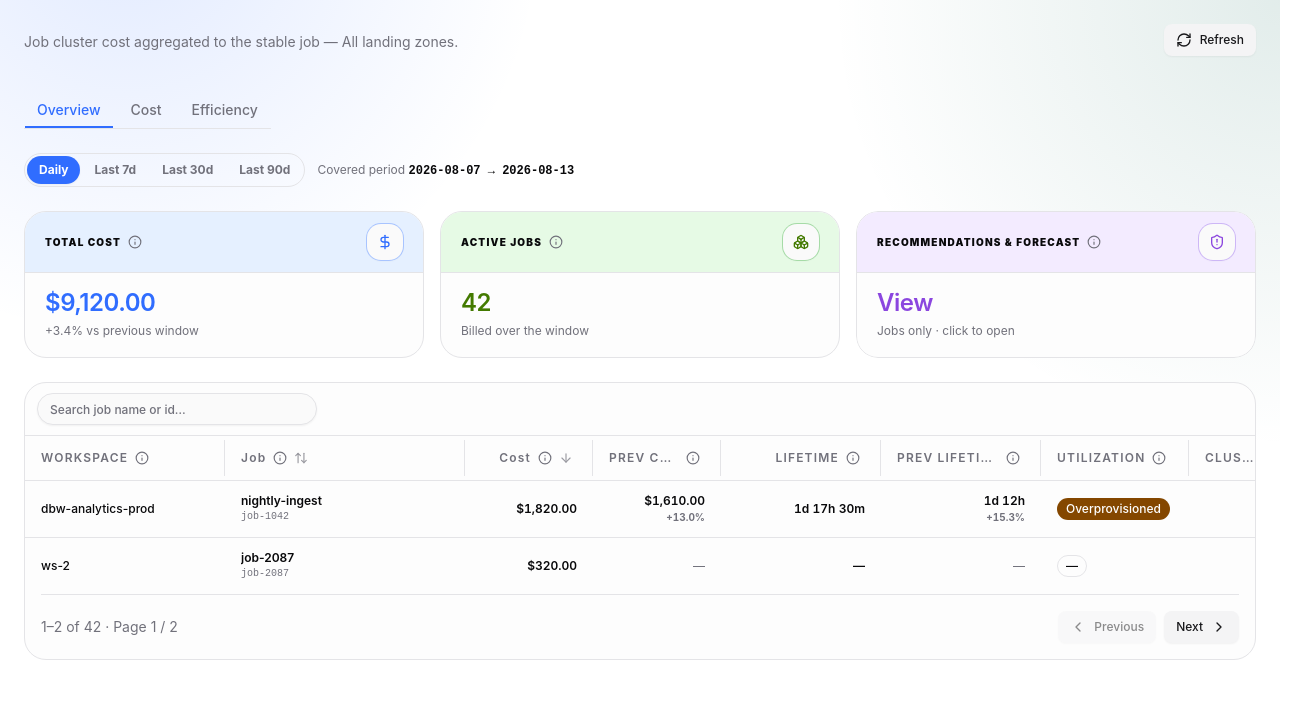
Test: ComputeJobs › fetches the cost grain and ranks the top-cost job when the Cost tab opens
Expected: the text "nightly-ingest" is shown, [241,492,322,508]
Click the tab "Cost".
click(146, 110)  # box [118,92,174,128]
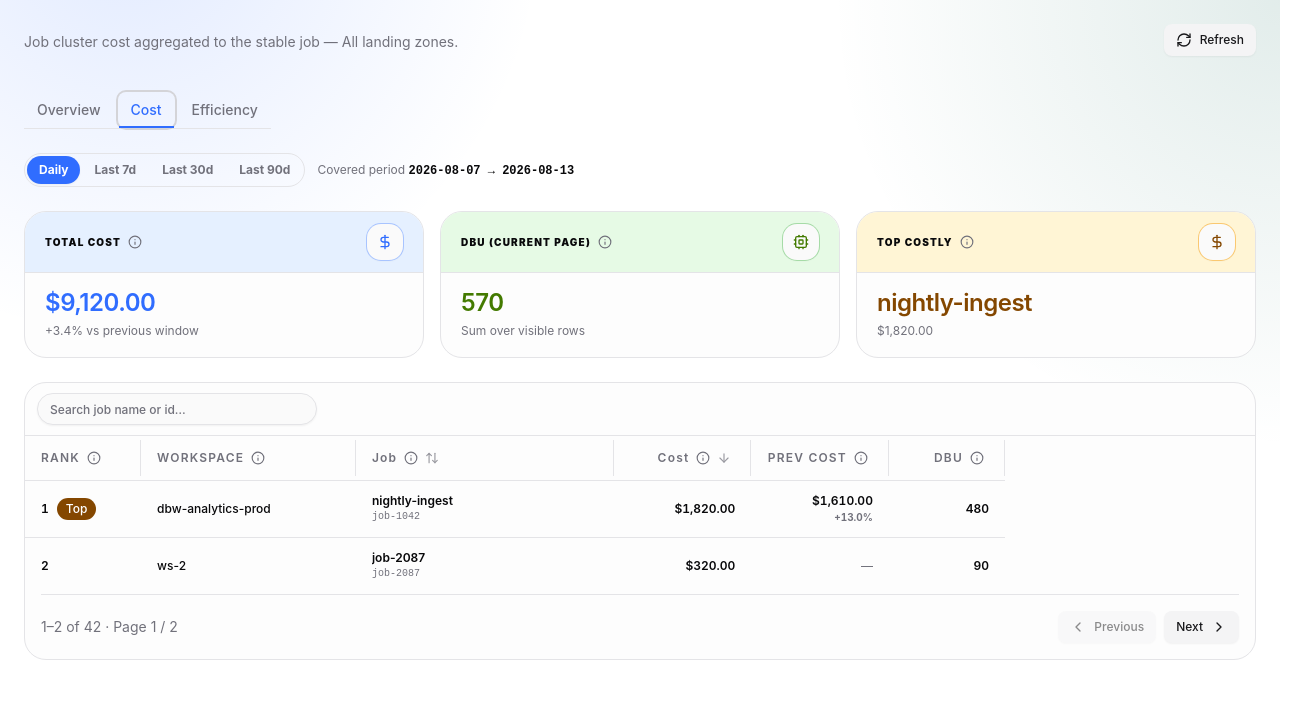
Result: the text "Top" is shown at [57,498,96,520]
Result: the column headings read "Rank", "Workspace", "Job", "Cost", "Prev cost", "DBU", in this order at [25,436,141,480]; [141,436,356,480]; [356,436,614,480]; [614,436,751,480]; [751,436,889,480]; [889,436,1005,480]
